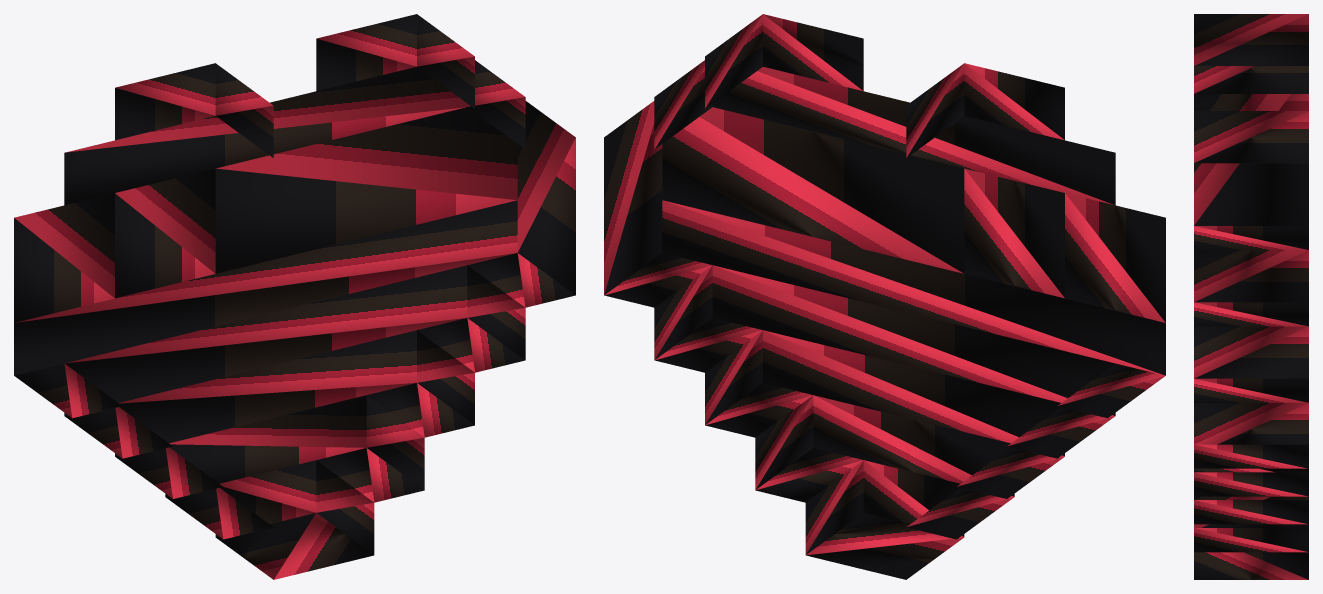
Rendered from pixheart.glb.
The picture shows the model from 3 angles, left to right: view 1: azimuth 30°, elevation 25°; view 2: azimuth 150°, elevation 25°; view 3: azimuth 270°, elevation 25°; orthographic projection.
Parts seen in each view (by area): view 1: pixheart; view 2: pixheart; view 3: pixheart.
Part boxes in pixels (x1,y1,x2,y2): pixheart: (14,14,575,579); pixheart: (604,14,1165,579); pixheart: (1194,14,1308,579).
Size of the model in its own units: 0.95 by 0.855 by 0.19.
1 material, 1 textured.
